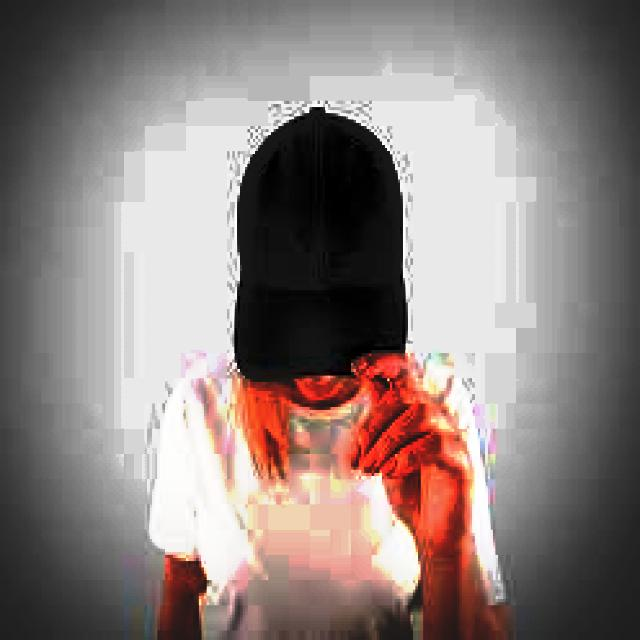TOPI: (227, 98, 410, 384)
